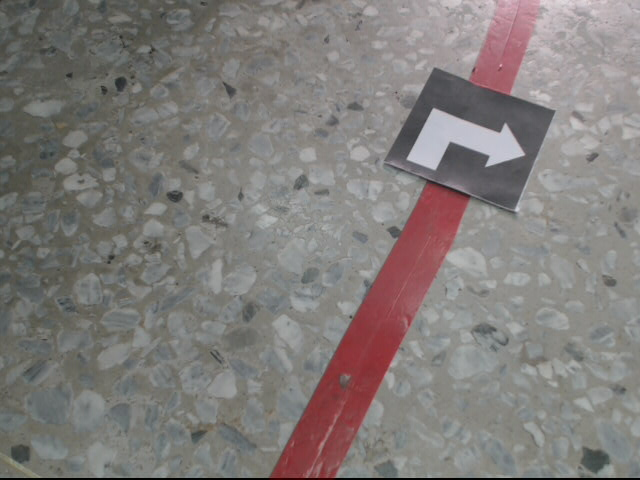right: (384, 67, 559, 212)
